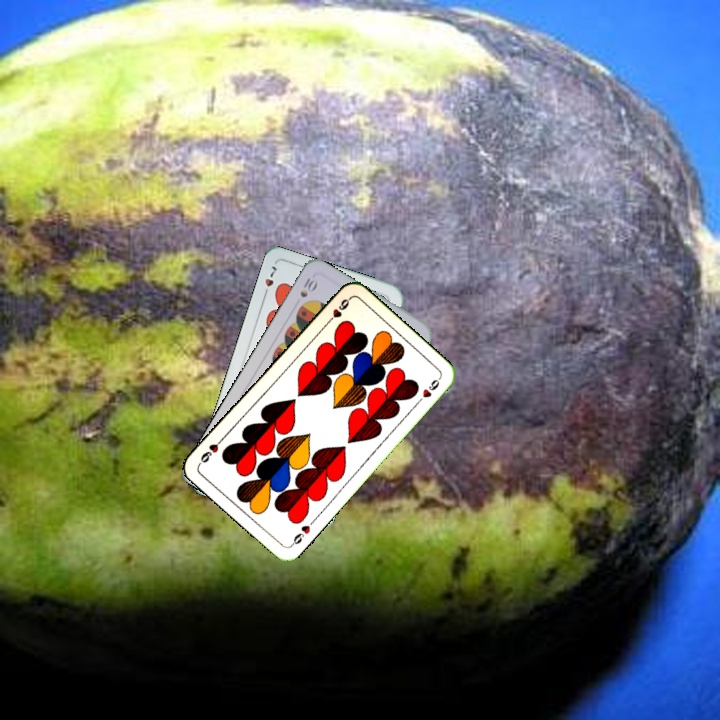H7: (259, 261, 279, 300)
H9: (287, 515, 318, 549), (322, 294, 353, 327)
S10: (296, 272, 320, 300)
